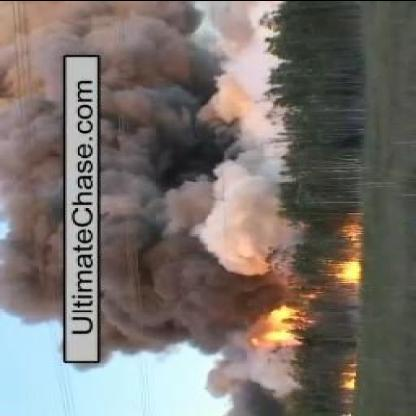-: (102, 19, 242, 352), (2, 20, 61, 324)
foggia-v2-map80-epoch100 - v1 4323: (336, 258, 362, 284)
